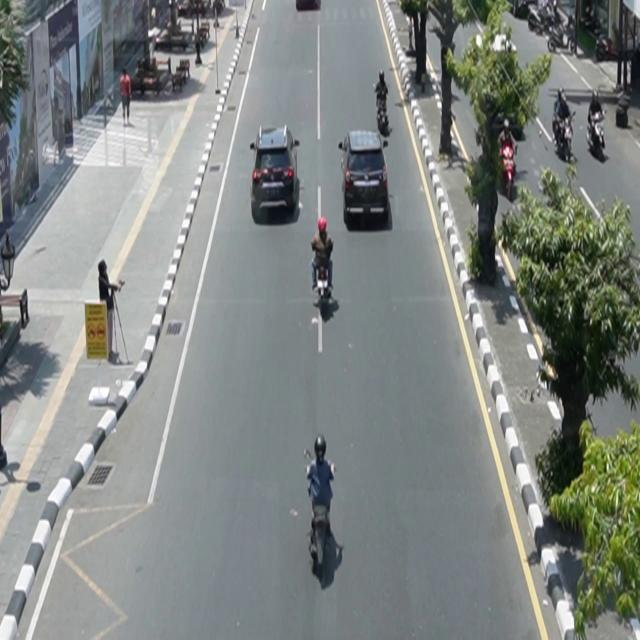car: (250, 125, 301, 224), (339, 130, 390, 227)
